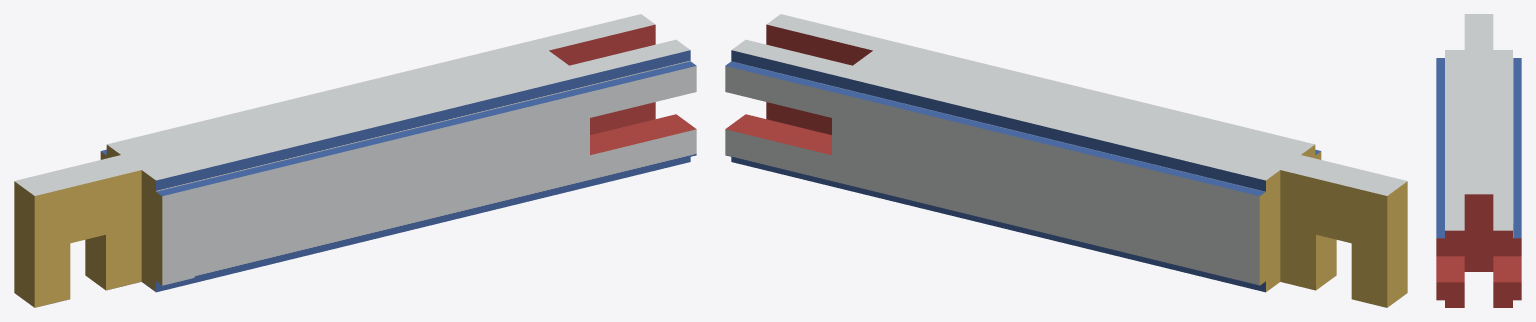
The model's file is stick.fbx.
3 views of the same model, side by side, from view 1: azimuth 30°, elevation 25°; view 2: azimuth 150°, elevation 25°; view 3: azimuth 270°, elevation 25° (orthographic). The views are drawn at different scales.
Parts seen in each view (by area): view 1: 3dSolid; view 2: 3dSolid; view 3: 3dSolid.
Boxes of the visible parts, <box> form: 3dSolid: <box>14,14,696,307</box>; 3dSolid: <box>725,14,1407,307</box>; 3dSolid: <box>1436,14,1521,307</box>.
Bounding box in the file's own units: 1524 × 254 × 254.
1 material, 1 textured.
